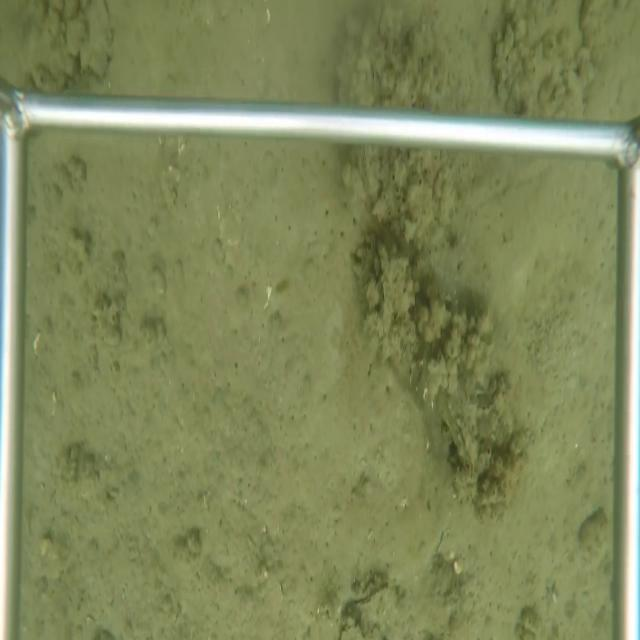Oyster-Closed: (335, 578, 408, 639), (439, 393, 484, 484)
